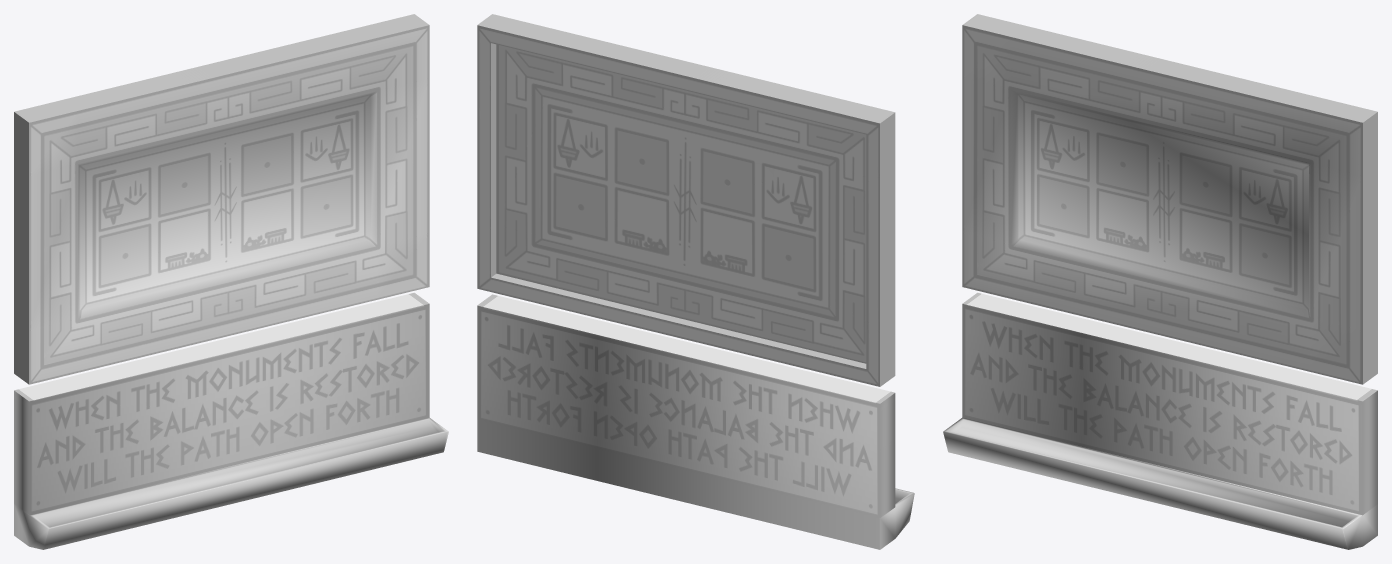
File: GreekHintMural 1.fbx
The picture shows the model from 3 angles, left to right: view 1: azimuth 30°, elevation 25°; view 2: azimuth 150°, elevation 25°; view 3: azimuth 330°, elevation 25°; orthographic projection.
Visible parts, largest first — view 1: Plane; view 2: Plane; view 3: Plane.
Part boxes in pixels (box(x1,y1,x2,y2)): Plane: box(14, 14, 448, 549); Plane: box(477, 14, 914, 549); Plane: box(943, 14, 1377, 549).
Size of the model in its own units: 800 by 809 by 119.
1 material, 1 textured.
